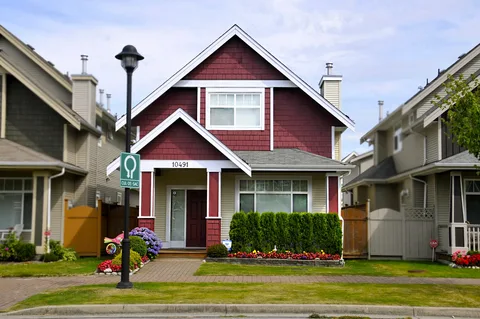private_hause: (137, 33, 343, 252)
